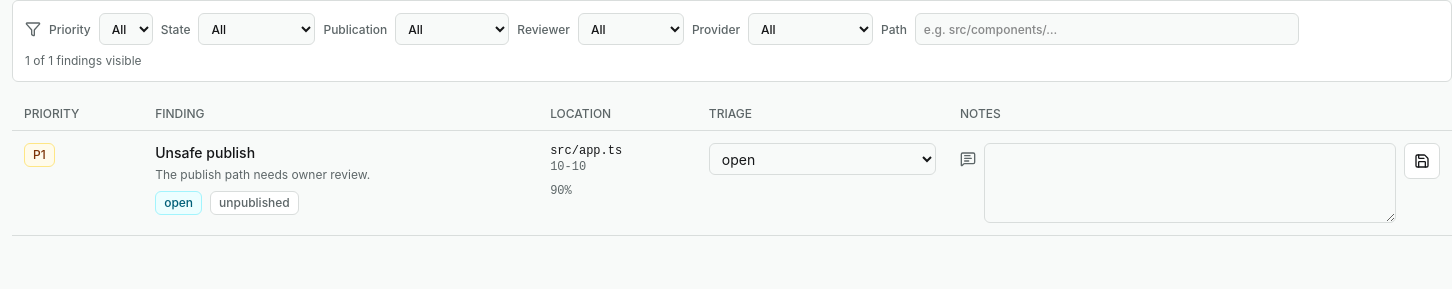
it: FindingWorkspace › rolls back optimistic triage state when the service rejects the write
The image size is (1452, 289).
Select "accepted" in the dropdown named "Triage state for Unsafe publish" at {"x": 822, "y": 159}, box [709,143,936,175]
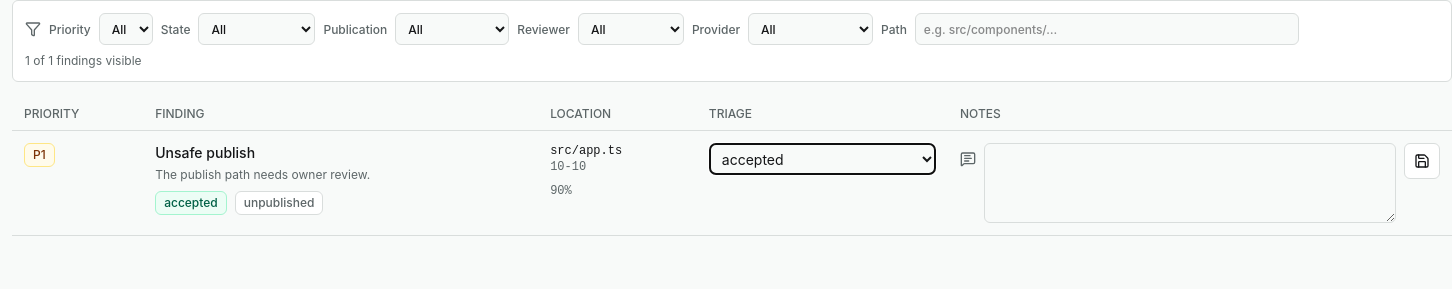
Click the button named "Save triage for Unsafe publish" at {"x": 1422, "y": 161}, box [1404,143,1440,179]
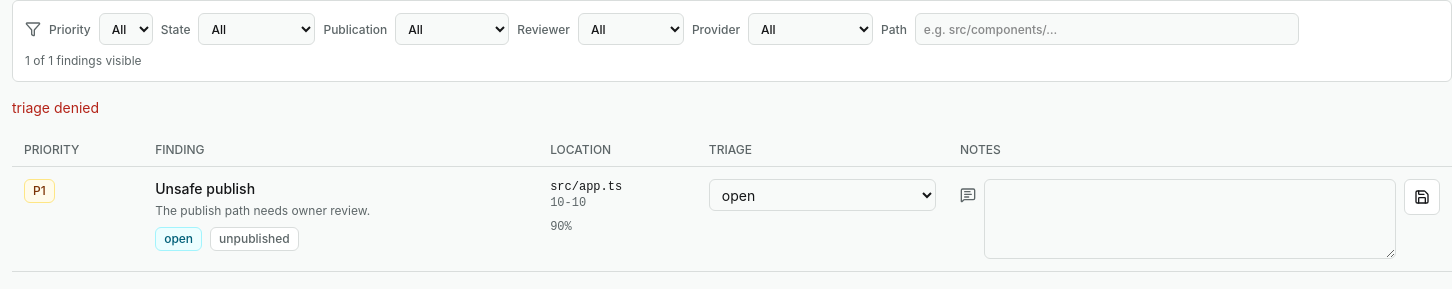
Result: the message reads "triage denied" at [12,99,99,116]
